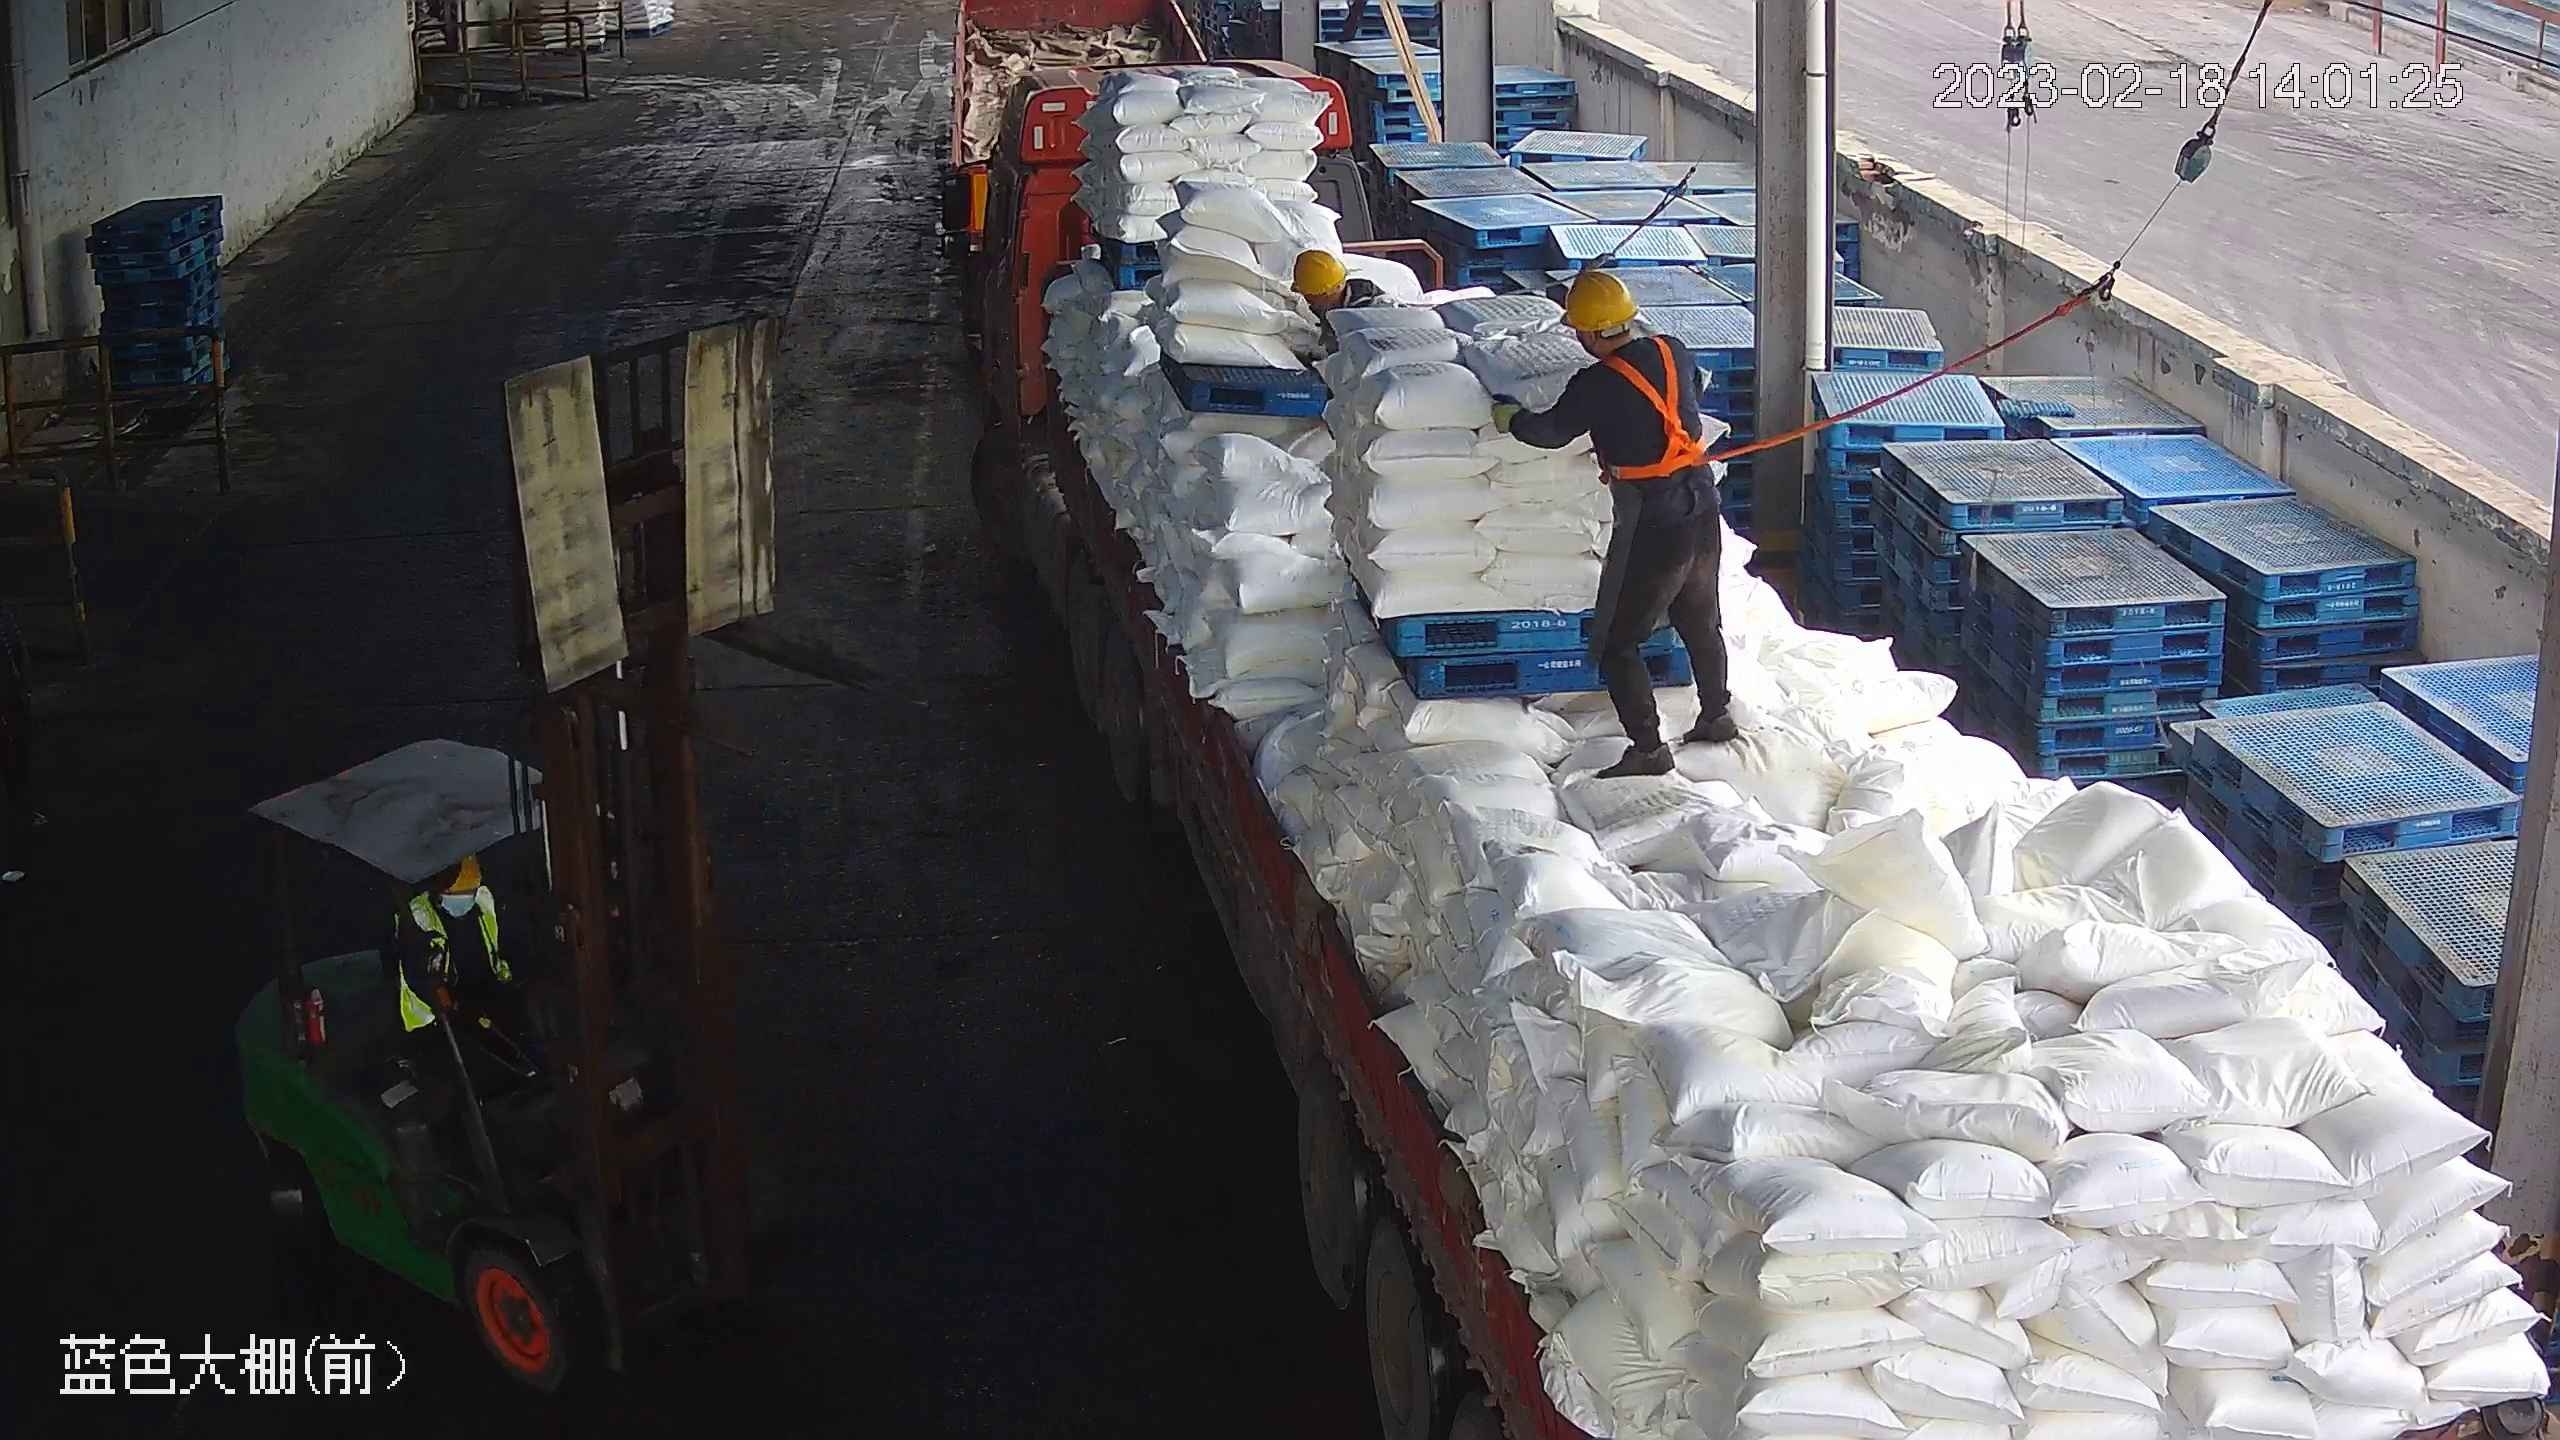belt: (1595, 336, 1723, 482)
head: (1553, 265, 1709, 411), (413, 865, 511, 953)
helmet: (1555, 265, 1640, 330), (1289, 246, 1349, 296)
people: (1490, 265, 1743, 781), (381, 862, 557, 1144)
truck: (943, 57, 2554, 1440)
